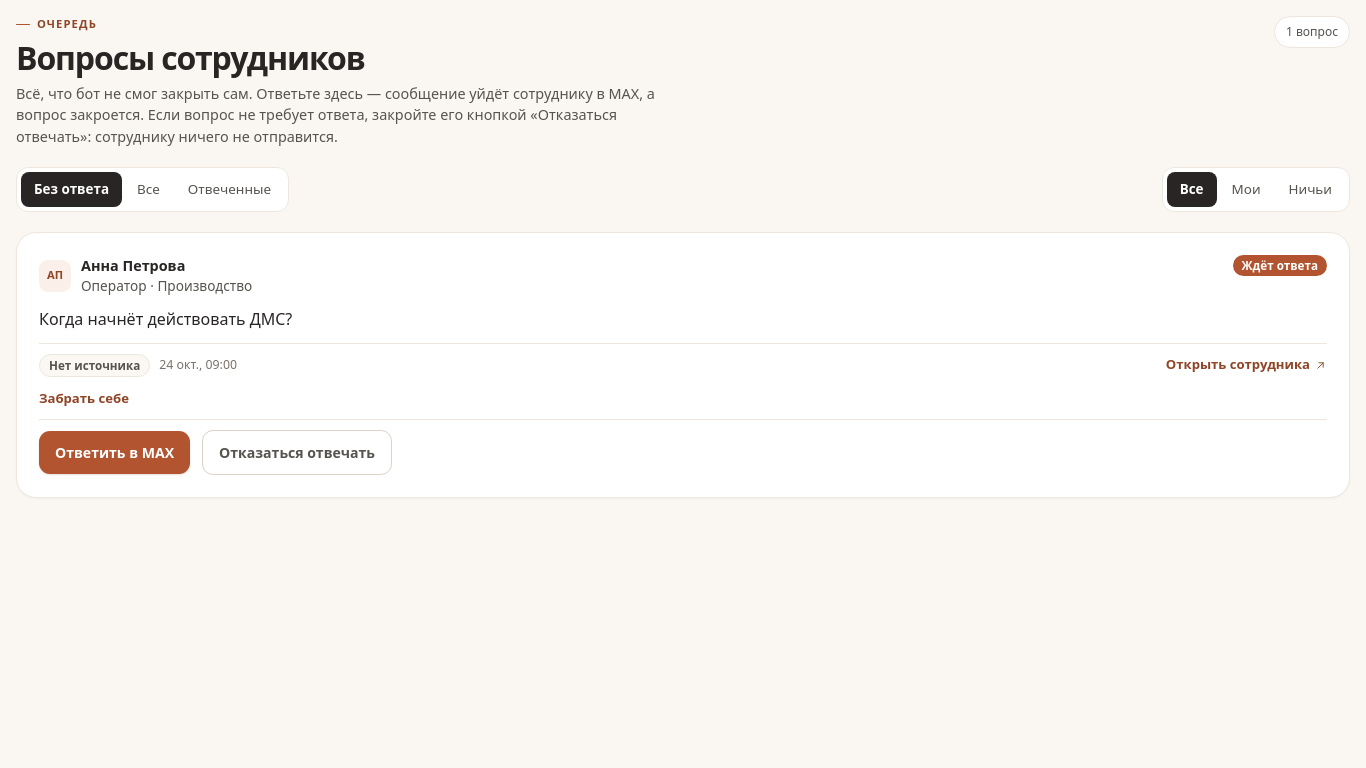
Scenario: QuestionsPage › sends the reply to the API and closes the form
This screenshot has width=1366, height=768.
Click the button "Ответить в MAX". click: (115, 452)
box: 39,431 -> 190,474
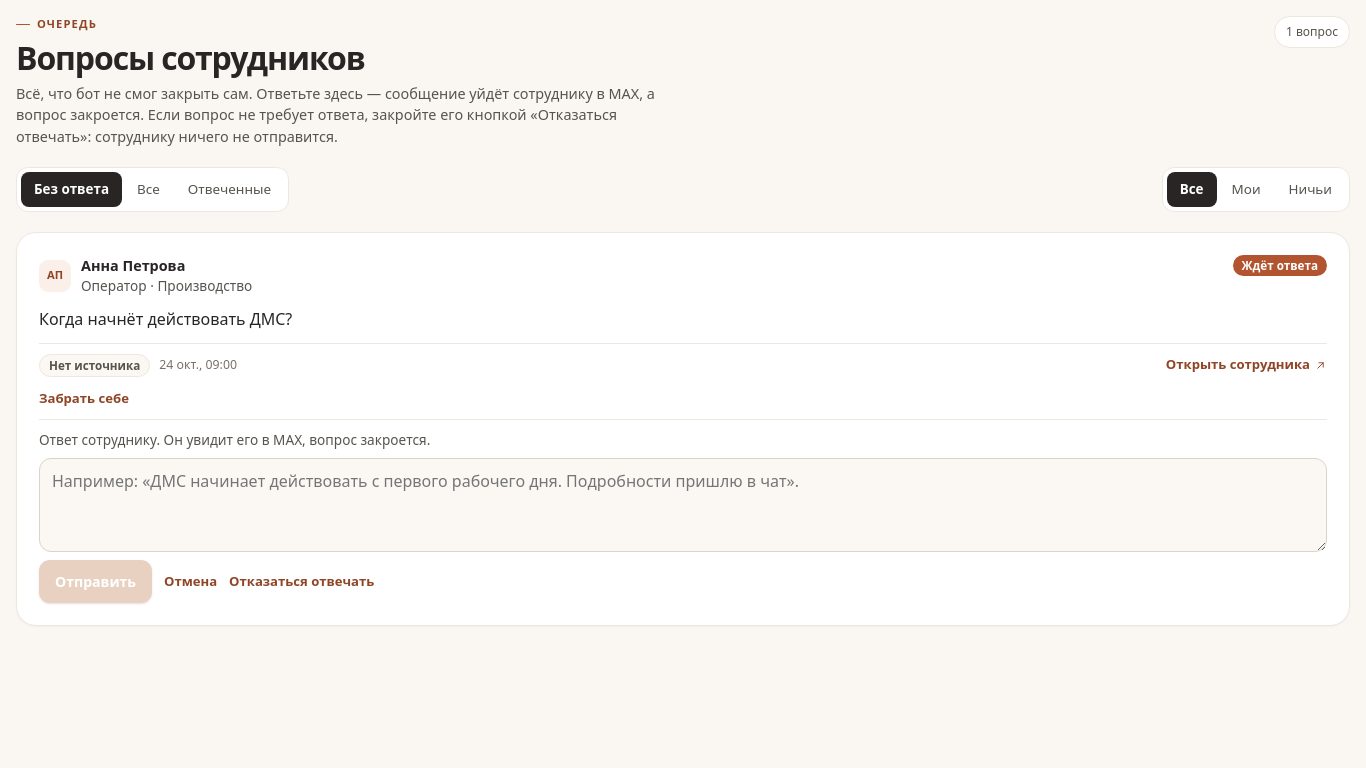
Type "ДМС действует с первого рабочего дня." into the text box labelled "Ответ сотруднику. Он увидит его в MAX, вопрос закроется.". click: (683, 505)
box: 39,458 -> 1327,552
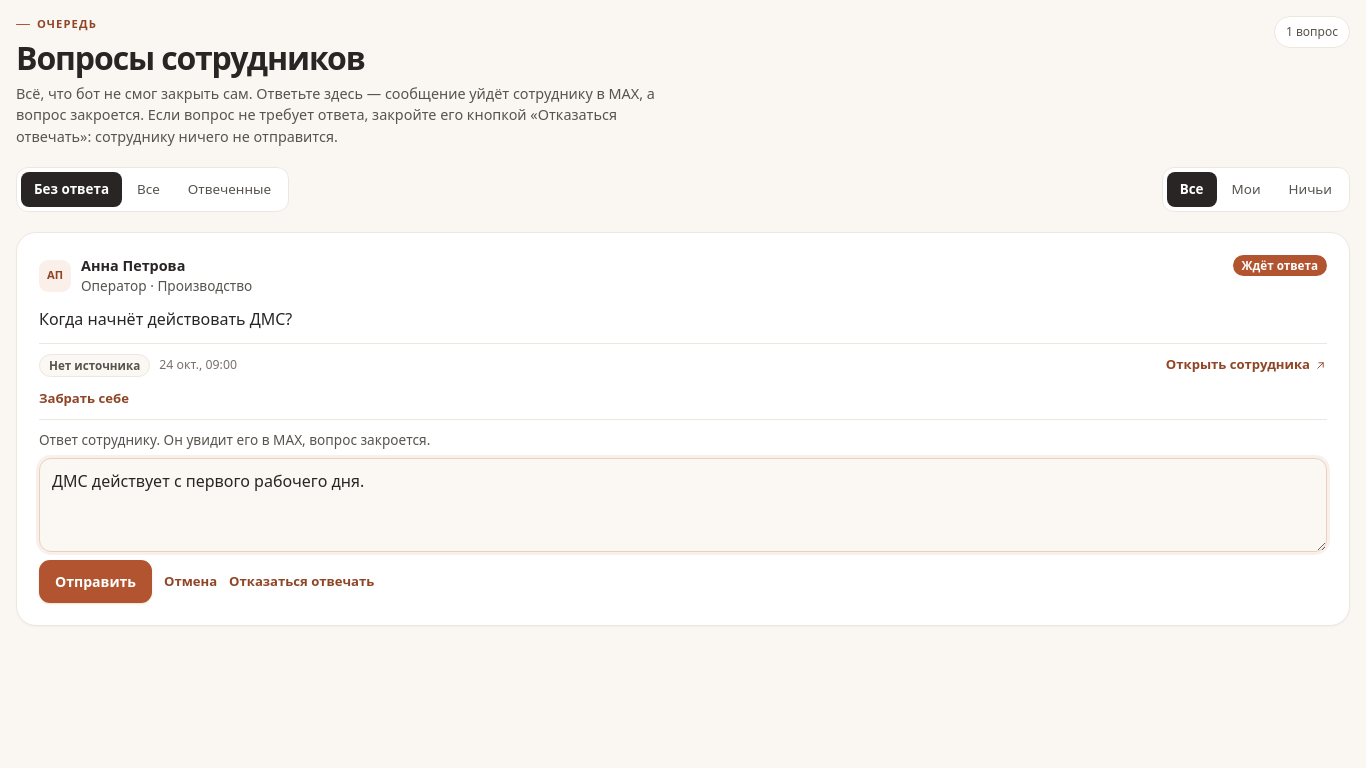
Click the button "Отправить". click: (96, 582)
box: 39,560 -> 152,603
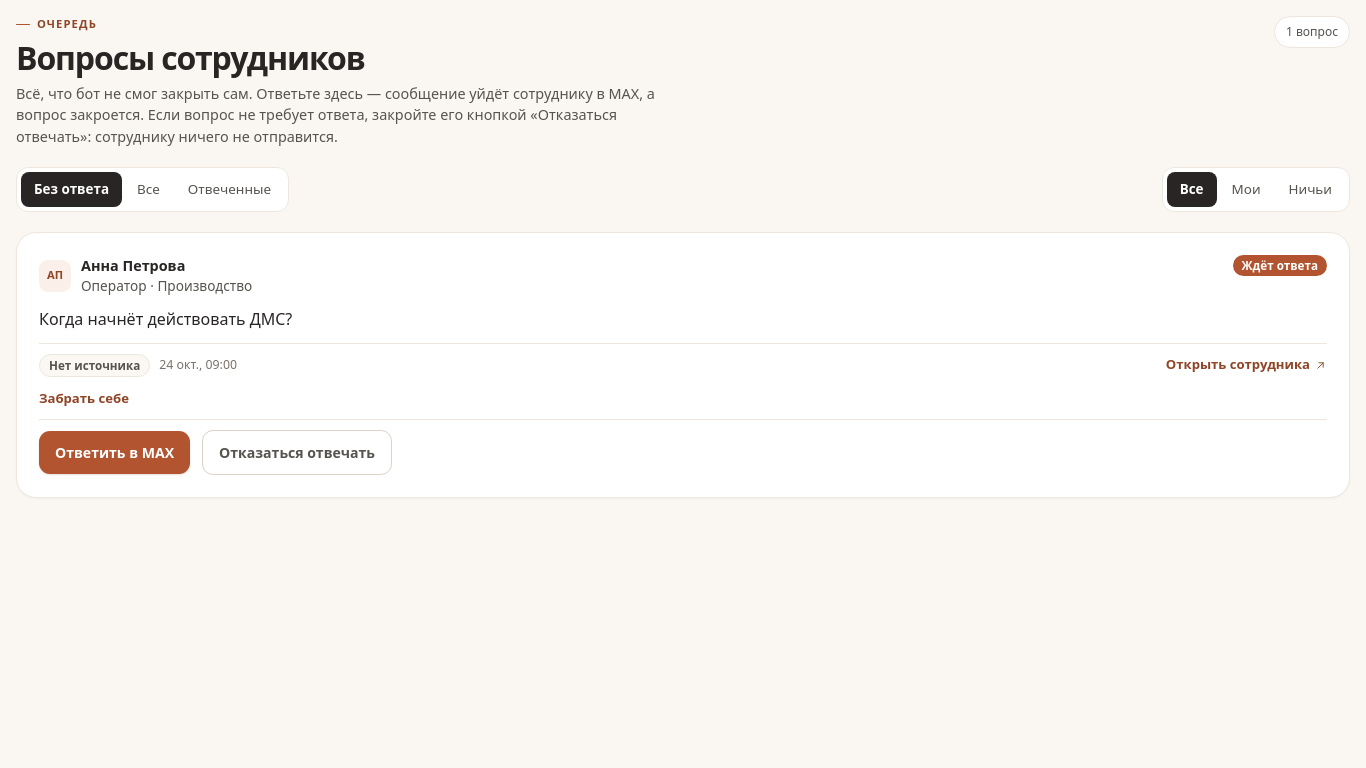
Now the label labelled "Ответ сотруднику" is gone
